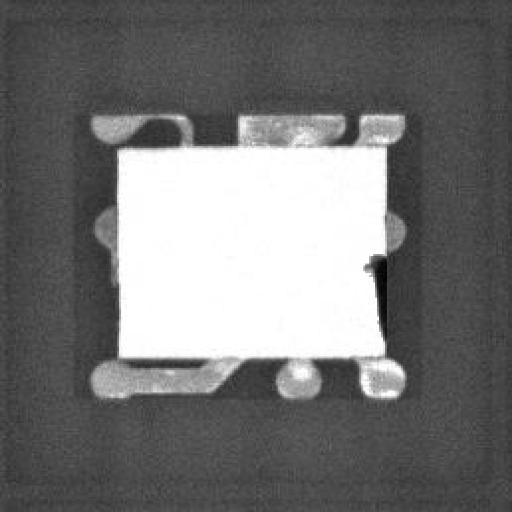DIE_BROKEN: (357, 245, 387, 343)
